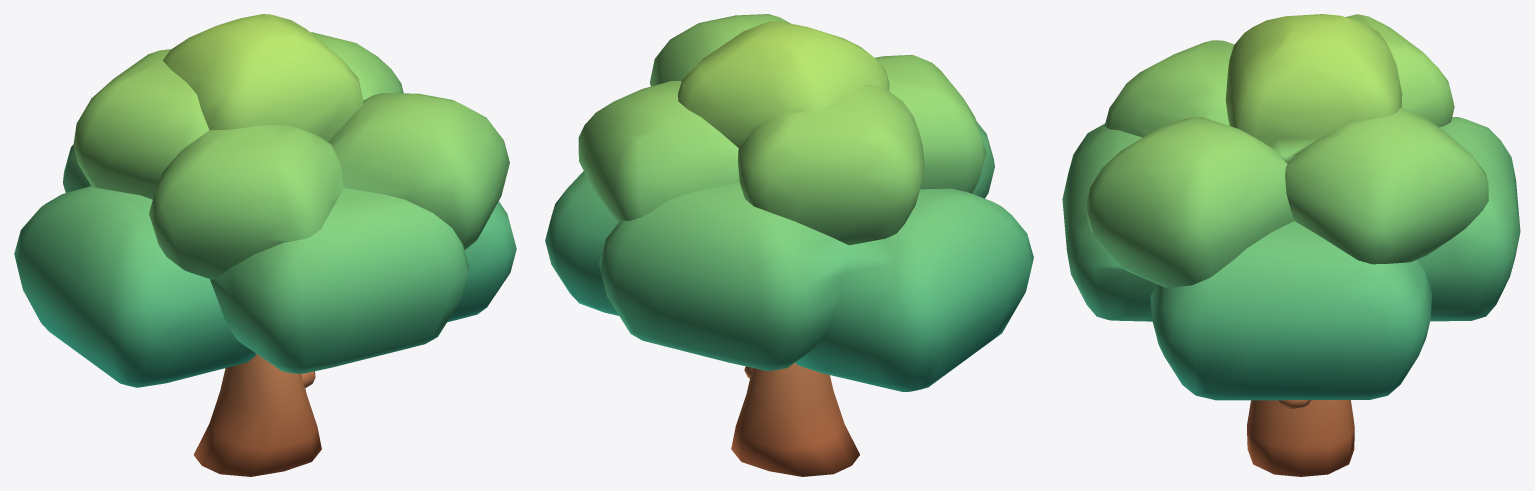
Rendered from oak.glb.
3 renders of one model, left to right at view 1: azimuth 30°, elevation 25°; view 2: azimuth 150°, elevation 25°; view 3: azimuth 270°, elevation 25°, orthographic.
Parts seen in each view (by area): view 1: oak; view 2: oak; view 3: oak.
Boxes of the visible parts, left/top/right/bottom form: oak: left=14, top=14, right=516, bottom=476; oak: left=545, top=14, right=1033, bottom=476; oak: left=1062, top=14, right=1520, bottom=476.
Bounding box in the file's own units: 4.14 × 4.1 × 3.98.
Materials: 1 (1 with a texture image).
